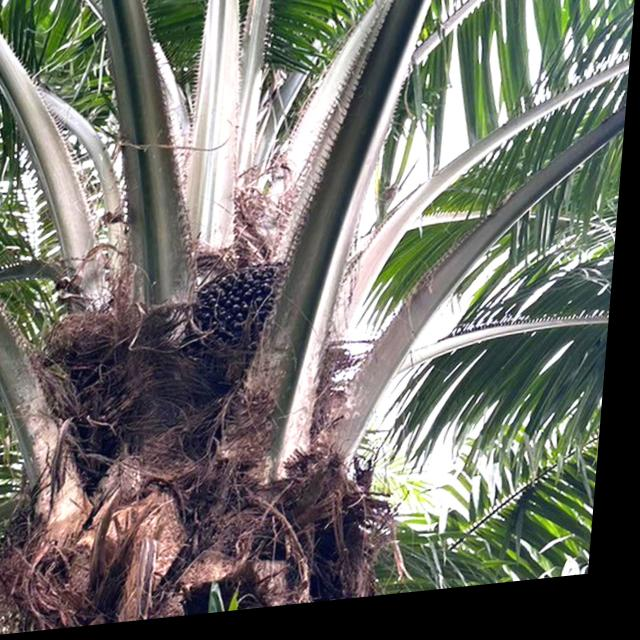unripe: (189, 262, 307, 371)
